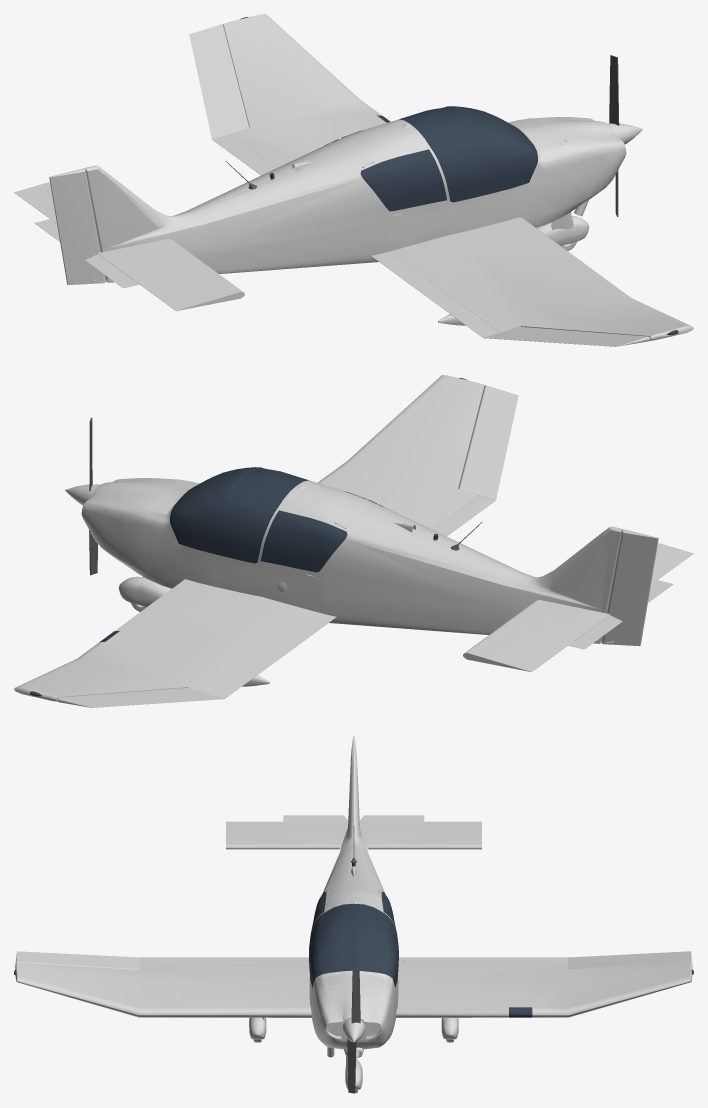
The picture shows the model from 3 angles, top to bottom: view 1: azimuth 30°, elevation 25°; view 2: azimuth 150°, elevation 25°; view 3: azimuth 270°, elevation 25°; orthographic projection. The views are drawn at different scales.
Parts seen in each view (by area): view 1: body, glass, spin; view 2: body, glass, spin; view 3: body, glass, spin.
Part boxes in pixels (bbox=[...]): body: bbox=[14, 14, 693, 346]; glass: bbox=[240, 17, 678, 335]; spin: bbox=[609, 55, 619, 216]; body: bbox=[14, 375, 693, 707]; glass: bbox=[30, 377, 466, 696]; spin: bbox=[89, 417, 97, 575]; body: bbox=[15, 736, 692, 1093]; glass: bbox=[14, 862, 693, 1017]; spin: bbox=[347, 968, 360, 1093].
Size of the model in its own units: 1.75 by 0.5609 by 2.2.
